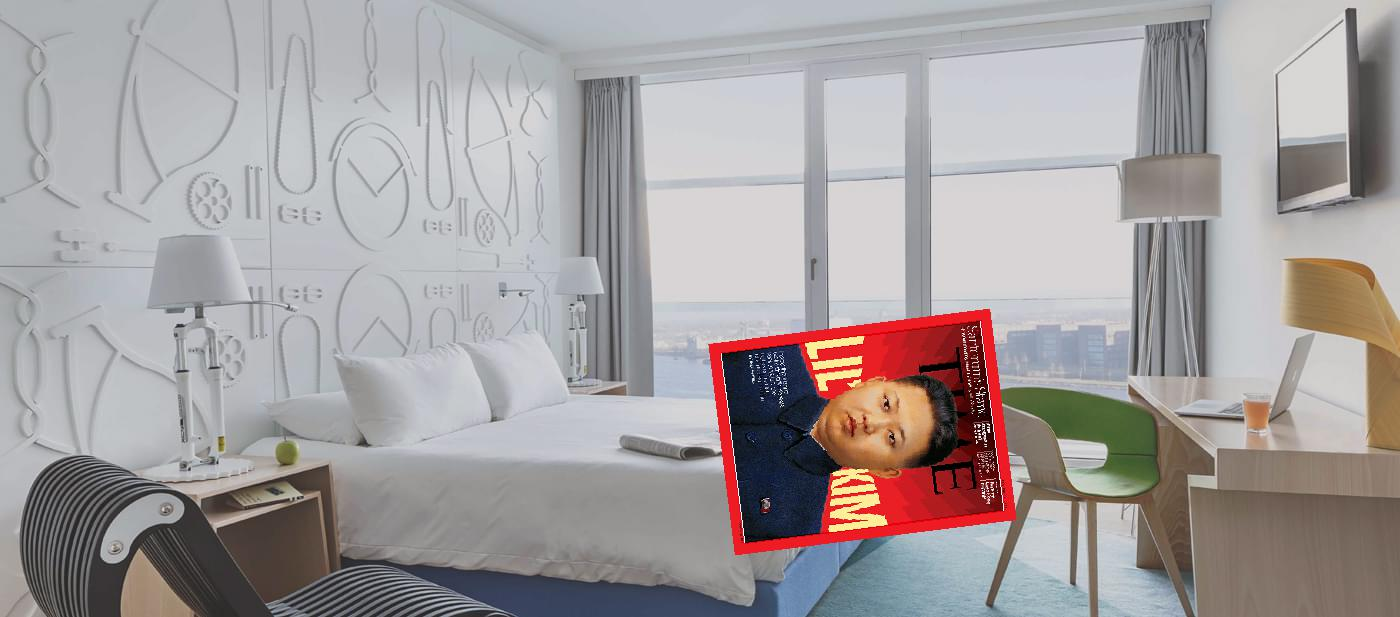times: (704, 307, 1022, 556)
